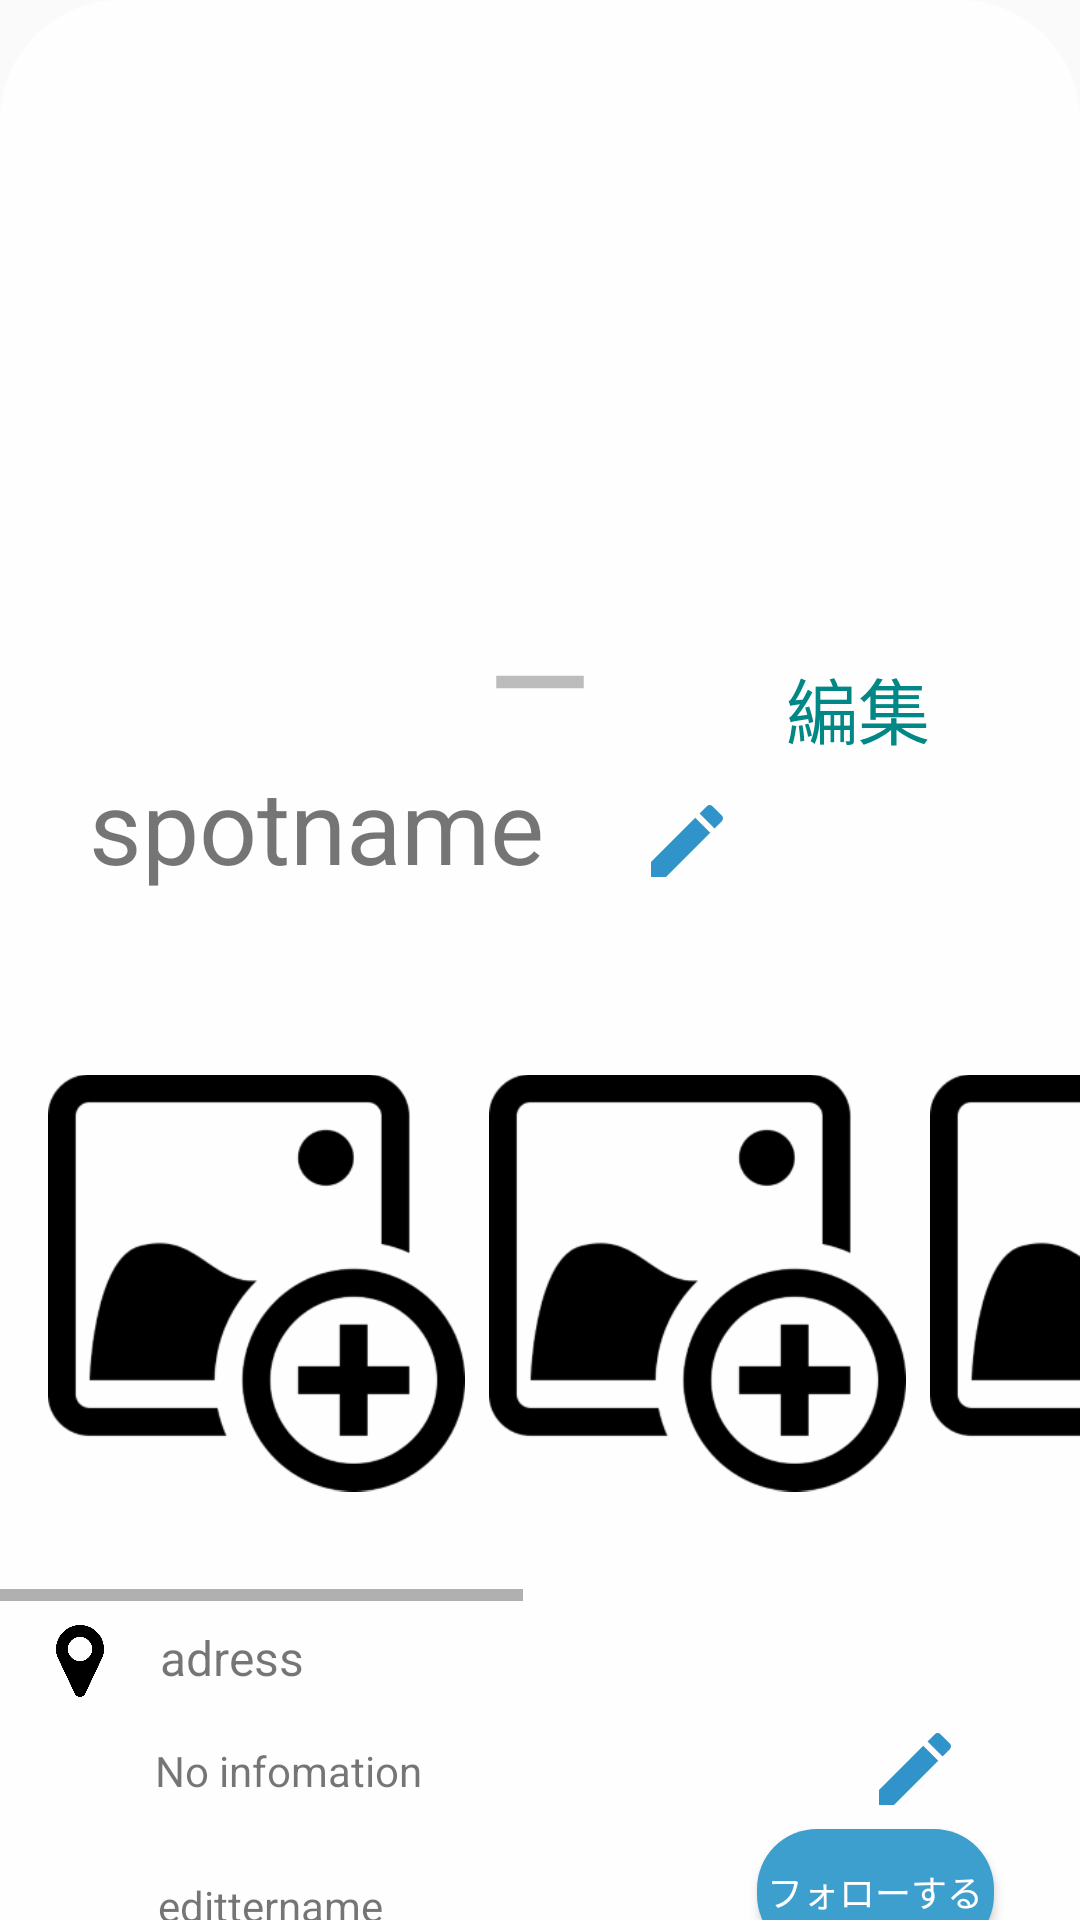

Point at icon controls on the screen. Image size 1080w x 1920h, points as (x=x, y=y).
marker: (x=80, y=1661)
